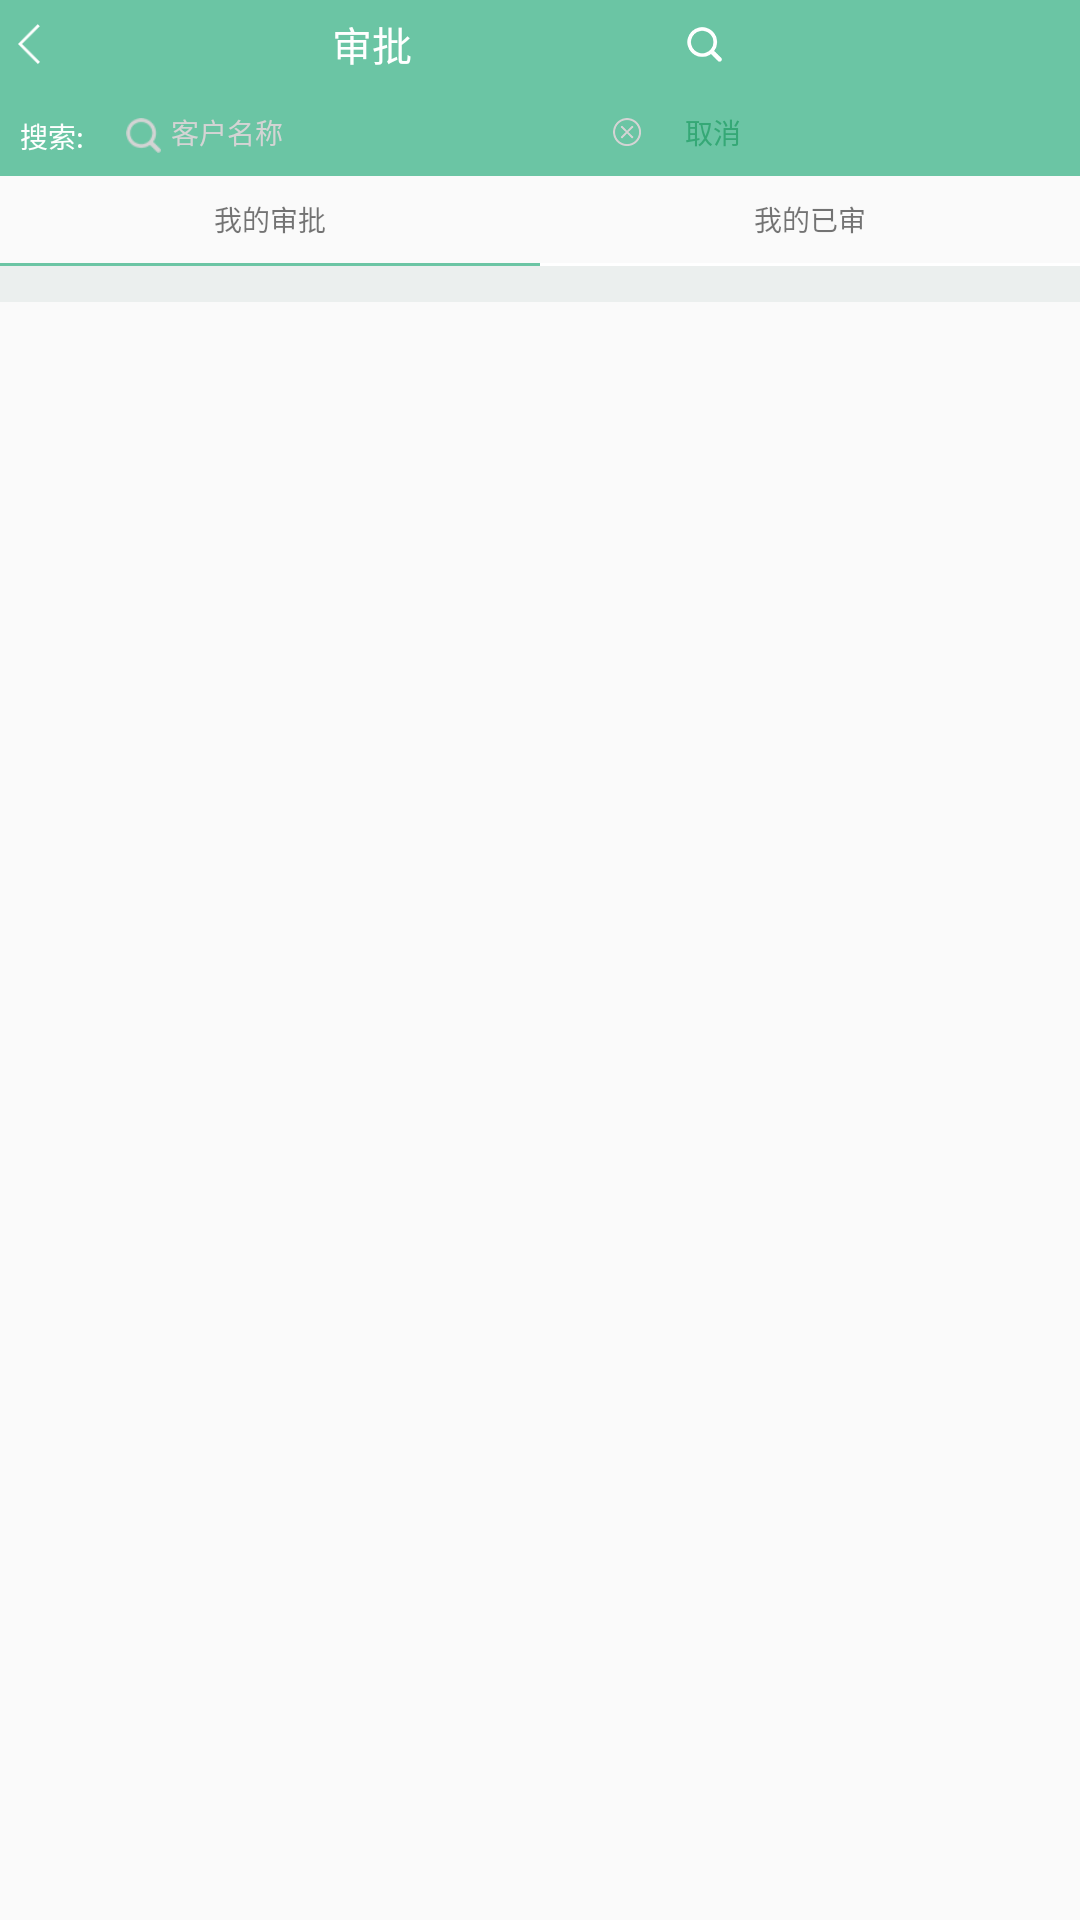

Icon click points for this 1080×1920 phone screenshot, format (x,y):
close: (627,132)
fanhui: (29,44)
search: (704,44)
searchbefore: (143,135)
